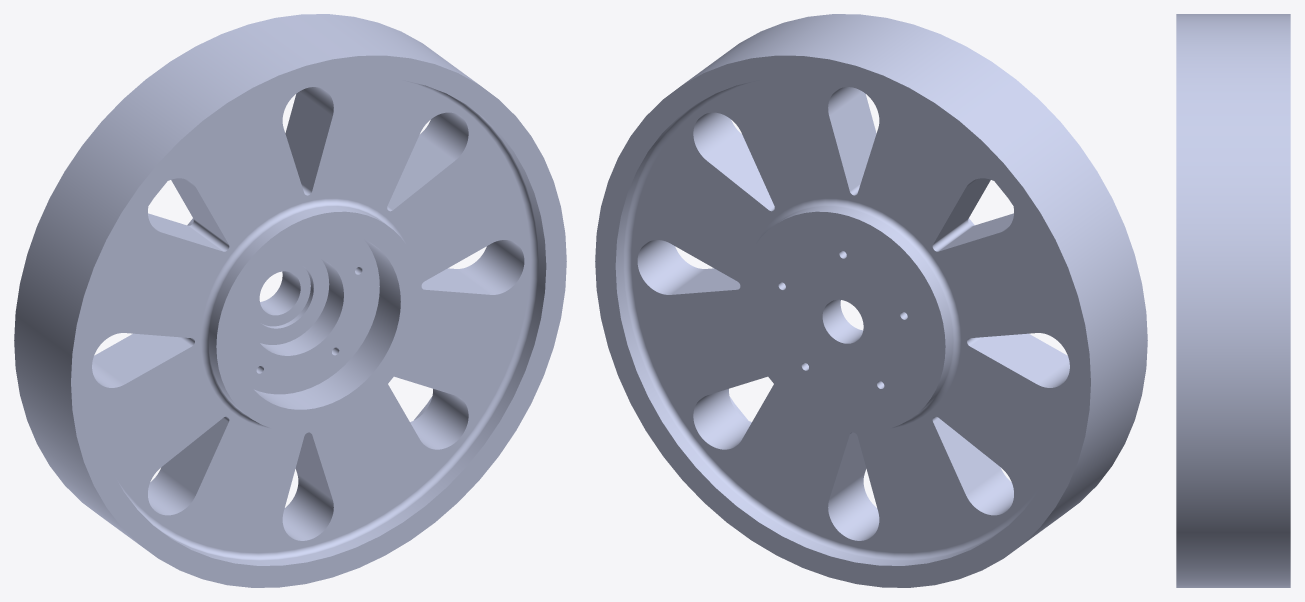
The model's file is _2025_Drivetrain_Grounded_Wheel_R2.obj.
3 renders of one model, left to right at view 1: azimuth 30°, elevation 25°; view 2: azimuth 150°, elevation 25°; view 3: azimuth 270°, elevation 25°, orthographic.
Visible parts, largest first — view 1: mesh17176, mesh17213, mesh17214, mesh17158, mesh17162, mesh17216, mesh17215, mesh17159, mesh17161, mesh17192, mesh17178, mesh17160 (+15 smaller); view 2: mesh17209, mesh17213, mesh17173, mesh17212, mesh17210, mesh17211, mesh17175, mesh17192, mesh17178, mesh17174, mesh17203, mesh17199 (+10 smaller); view 3: mesh17213.
Boxes of the visible parts, x1,y1,x2,y2 form: mesh17176: [91, 77, 530, 552]; mesh17213: [14, 14, 477, 549]; mesh17214: [71, 55, 566, 587]; mesh17158: [216, 211, 421, 431]; mesh17162: [237, 233, 379, 394]; mesh17216: [112, 80, 538, 560]; mesh17215: [165, 110, 546, 565]; mesh17159: [254, 239, 400, 409]; mesh17161: [200, 198, 406, 428]; mesh17192: [285, 92, 332, 190]; mesh17178: [92, 333, 191, 383]; mesh17160: [208, 206, 383, 414]; mesh17209: [631, 77, 1070, 552]; mesh17213: [684, 14, 1147, 549]; mesh17173: [740, 211, 945, 431]; mesh17212: [595, 55, 1090, 587]; mesh17210: [623, 79, 1048, 560]; mesh17211: [615, 111, 996, 565]; mesh17175: [755, 198, 961, 428]; mesh17192: [829, 92, 876, 190]; mesh17178: [970, 333, 1069, 383]; mesh17174: [778, 206, 953, 414]; mesh17203: [693, 389, 751, 449]; mesh17199: [637, 240, 705, 294]; mesh17213: [1176, 14, 1290, 587].
Size of the model in its own units: 0.1537 by 0.1534 by 0.0305.
